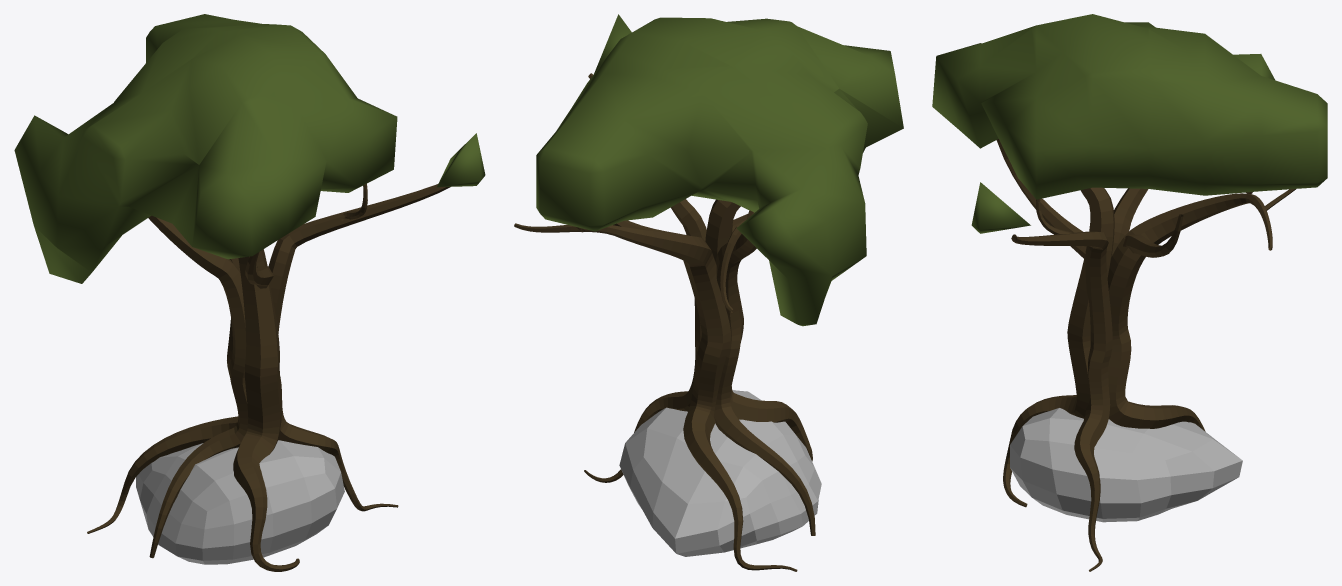
File: abre1_v2.fbx
3 renders of one model, left to right at view 1: azimuth 30°, elevation 25°; view 2: azimuth 150°, elevation 25°; view 3: azimuth 270°, elevation 25°, orthographic. The views are drawn at different scales.
Visible parts, largest first — view 1: Mball, Cube, BezierCurve.003, BezierCurve.002, BezierCurve, BezierCurve.001, BezierCurve.005; view 2: Mball, Cube, BezierCurve.001, BezierCurve.002, BezierCurve.003, BezierCurve; view 3: Mball, Cube, BezierCurve.001, BezierCurve, BezierCurve.003, BezierCurve.002, BezierCurve.005, BezierCurve.006.
Part boxes in pixels (x1=…): Mball: x1=14, y1=14, x2=485, y2=283; Cube: x1=136, y1=440, x2=344, y2=564; BezierCurve.003: x1=233, y1=249, x2=299, y2=571; BezierCurve.002: x1=148, y1=215, x2=248, y2=558; BezierCurve: x1=268, y1=184, x2=450, y2=511; BezierCurve.001: x1=87, y1=258, x2=240, y2=533; BezierCurve.005: x1=245, y1=252, x2=273, y2=288; Mball: x1=536, y1=14, x2=903, y2=326; Cube: x1=619, y1=390, x2=821, y2=556; BezierCurve.001: x1=514, y1=223, x2=797, y2=571; BezierCurve.002: x1=714, y1=220, x2=815, y2=535; BezierCurve.003: x1=705, y1=199, x2=812, y2=461; BezierCurve: x1=584, y1=73, x2=706, y2=482; Mball: x1=932, y1=14, x2=1327, y2=233; Cube: x1=1010, y1=408, x2=1242, y2=522; BezierCurve.001: x1=1107, y1=193, x2=1272, y2=431; BezierCurve: x1=1011, y1=231, x2=1112, y2=571; BezierCurve.003: x1=1003, y1=187, x2=1114, y2=507; BezierCurve.002: x1=1111, y1=188, x2=1252, y2=400; BezierCurve.005: x1=996, y1=139, x2=1086, y2=258; BezierCurve.006: x1=1123, y1=214, x2=1183, y2=257.
Size of the model in its own units: 1484 by 1998 by 1501.
